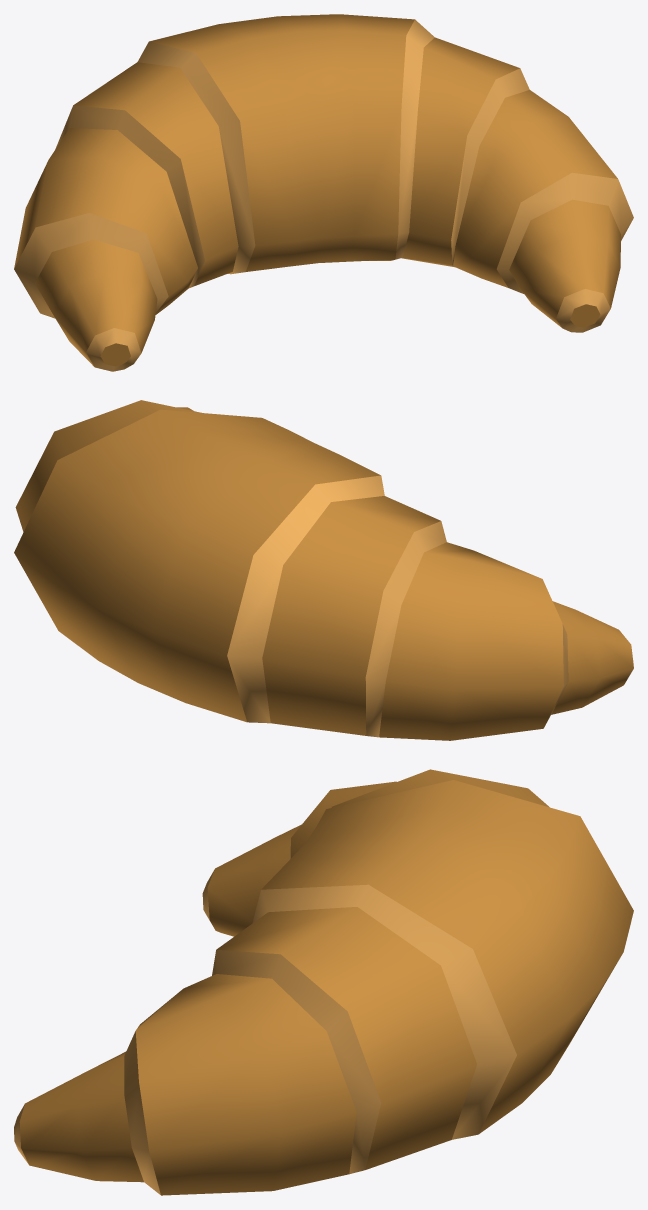
File: Cruassant.glb
3 renders of one model, top to bottom at view 1: azimuth 30°, elevation 25°; view 2: azimuth 150°, elevation 25°; view 3: azimuth 270°, elevation 25°, orthographic. The views are drawn at different scales.
Visible parts, largest first — view 1: Cruassant; view 2: Cruassant; view 3: Cruassant.
Part boxes in pixels (bbox=[...]): Cruassant: bbox=[14, 14, 633, 371]; Cruassant: bbox=[14, 400, 633, 740]; Cruassant: bbox=[14, 769, 633, 1195].
Size of the model in its own units: 0.1702 by 0.0692 by 0.1434.
Materials: 1 (1 with a texture image).
